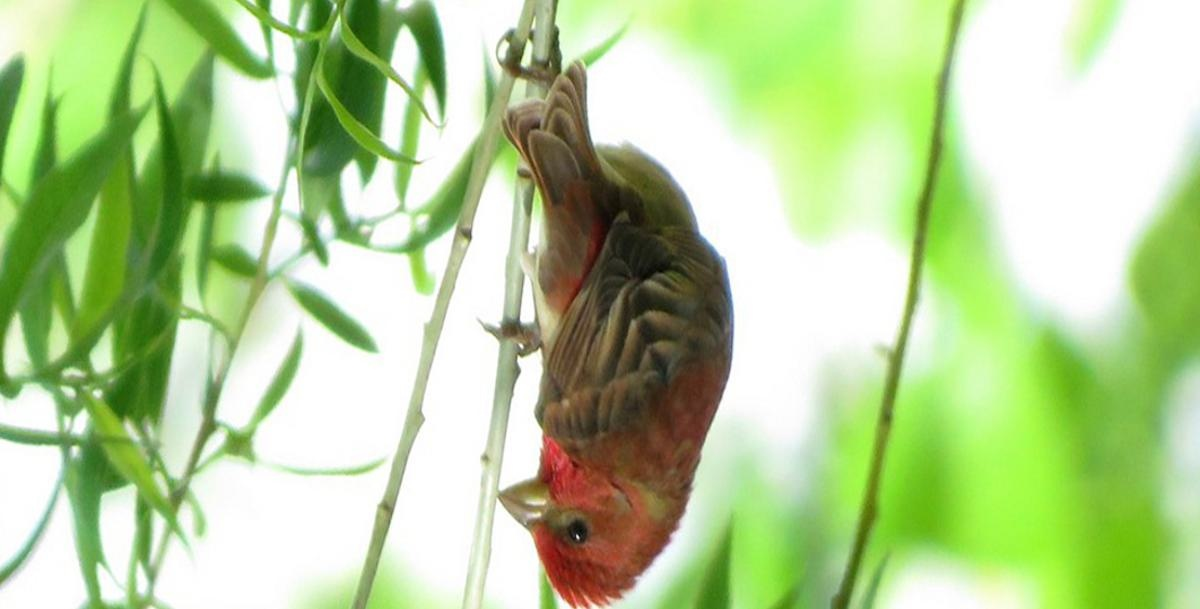rosefinch: (480, 65, 714, 609)
